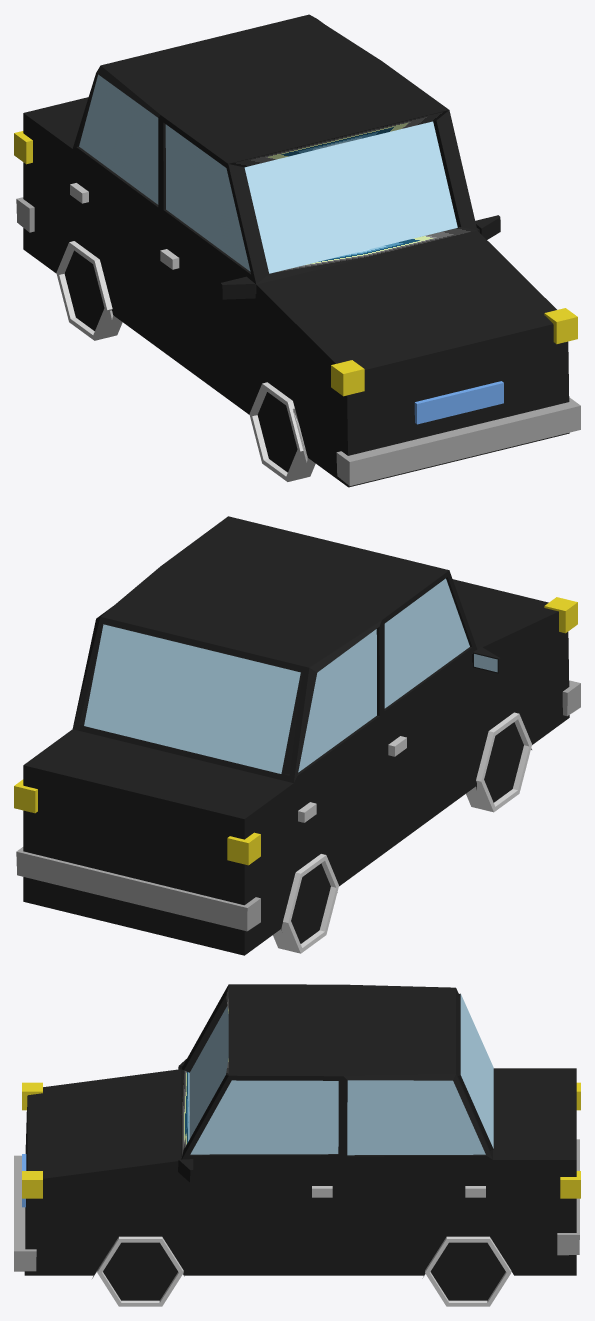
The model's file is voiture.glb.
The picture shows the model from 3 angles, top to bottom: view 1: azimuth 30°, elevation 25°; view 2: azimuth 150°, elevation 25°; view 3: azimuth 270°, elevation 25°; orthographic projection. The views are drawn at different scales.
Visible parts, largest first — view 1: Cube; view 2: Cube; view 3: Cube.
Part boxes in pixels (x1,y1,x2,y2): Cube: (14,14,580,487); Cube: (14,516,580,955); Cube: (14,984,580,1306).
Size of the model in its own units: 2.47 by 2.29 by 5.14.
1 material, 1 textured.
